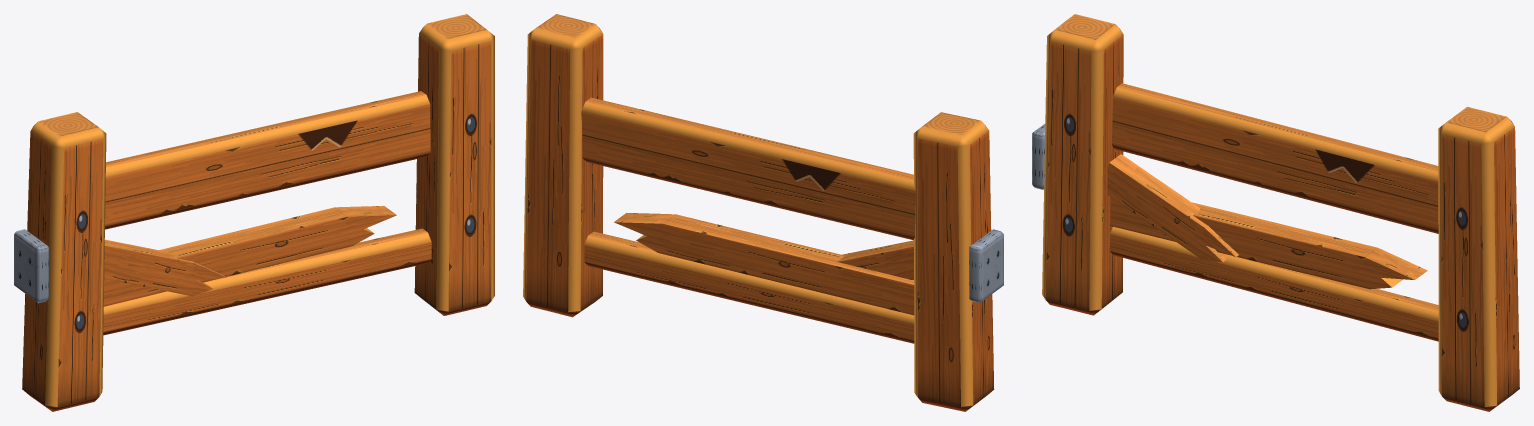
The model's file is Fence_Broken.fbx.
3 renders of one model, left to right at view 1: azimuth 30°, elevation 25°; view 2: azimuth 150°, elevation 25°; view 3: azimuth 330°, elevation 25°, orthographic.
Parts seen in each view (by area): view 1: Fence_Broken_Body; view 2: Fence_Broken_Body; view 3: Fence_Broken_Body.
Boxes of the visible parts, x1=… form: Fence_Broken_Body: x1=14, y1=14, x2=494, y2=411; Fence_Broken_Body: x1=523, y1=14, x2=1003, y2=411; Fence_Broken_Body: x1=1032, y1=14, x2=1519, y2=411.
Size of the model in its own units: 2.05 by 1.19 by 0.2545.
1 material, 1 textured.
